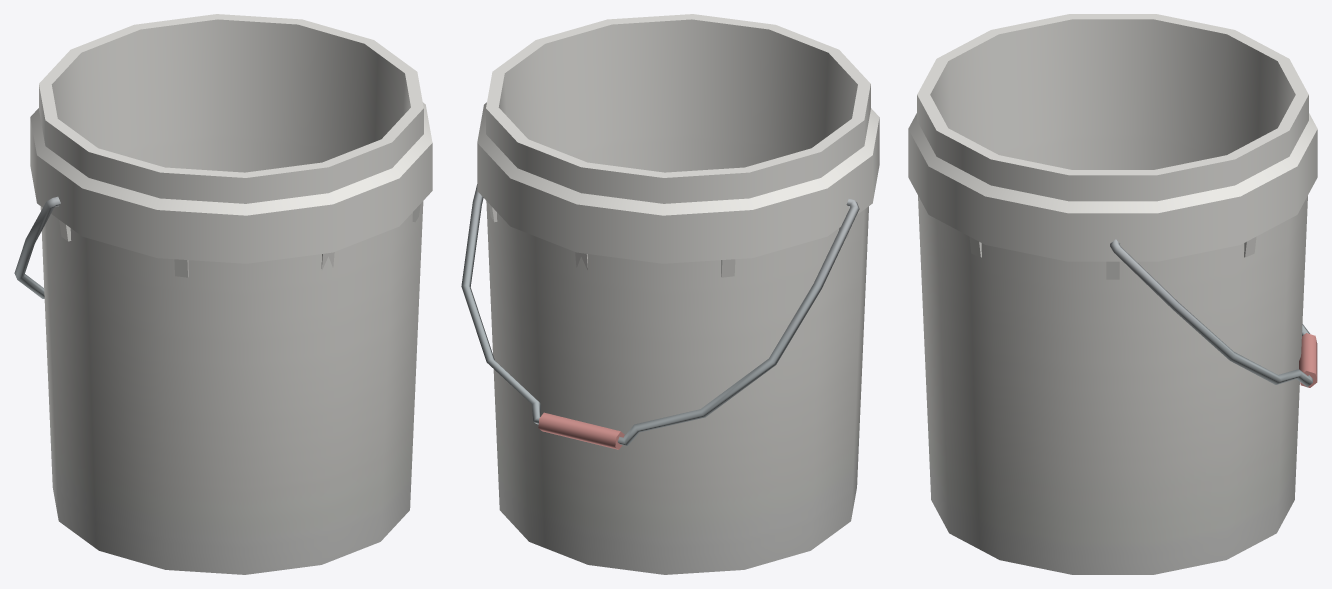
The model's file is Bucket.fbx.
3 renders of one model, left to right at view 1: azimuth 30°, elevation 25°; view 2: azimuth 150°, elevation 25°; view 3: azimuth 270°, elevation 25°, orthographic.
Visible parts, largest first — view 1: Bucket, Bucket_Handle; view 2: Bucket, Bucket_Handle; view 3: Bucket, Bucket_Handle.
Part boxes in pixels (<box>): Bucket: <box>30,14,432,574</box>; Bucket_Handle: <box>14,196,60,298</box>; Bucket: <box>477,14,879,574</box>; Bucket_Handle: <box>461,184,859,449</box>; Bucket: <box>908,14,1317,574</box>; Bucket_Handle: <box>1110,239,1317,387</box>.
Size of the model in its own units: 0.6038 by 0.6394 by 0.5853.
